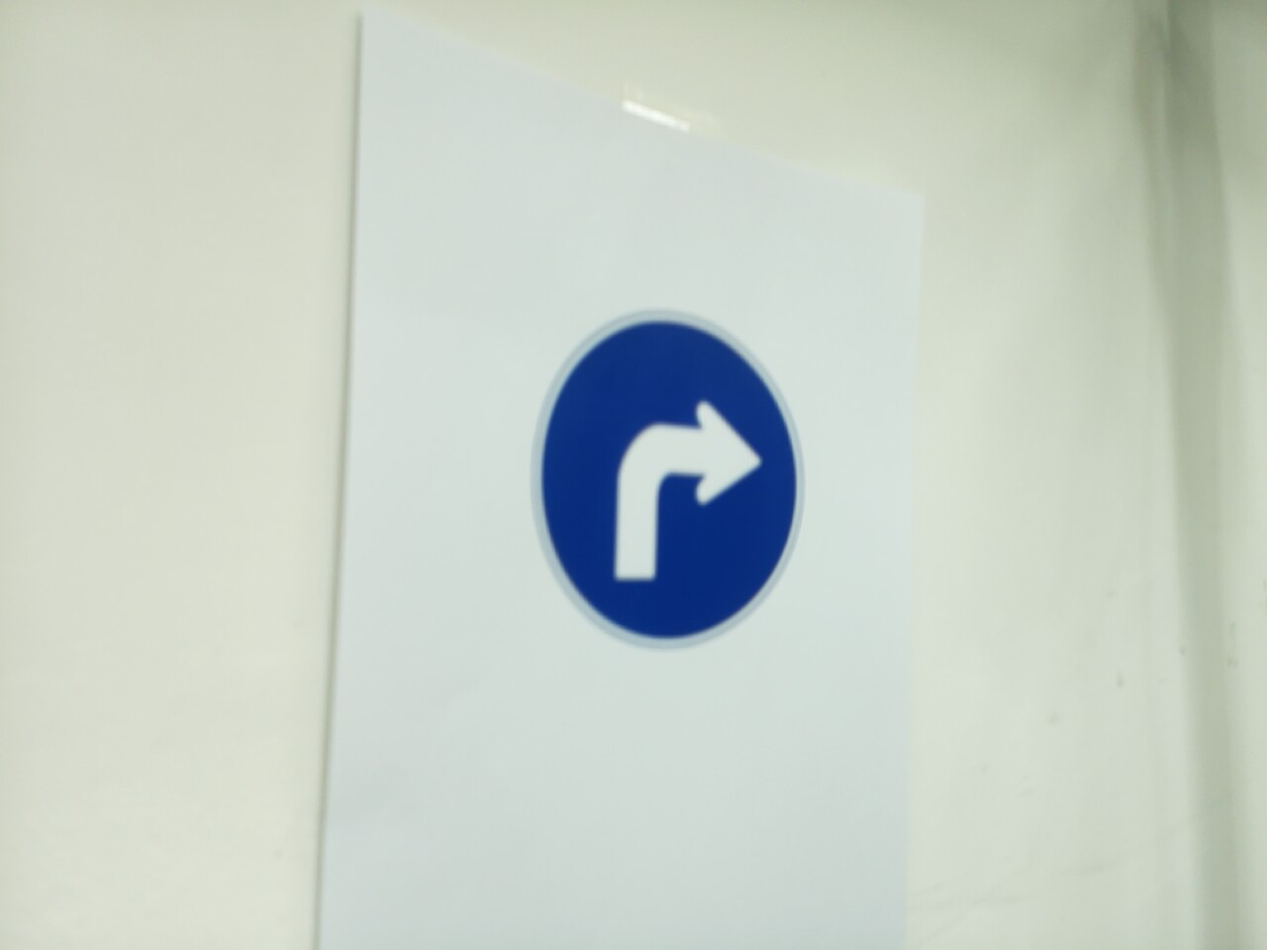right_turn: (533, 311, 806, 649)
